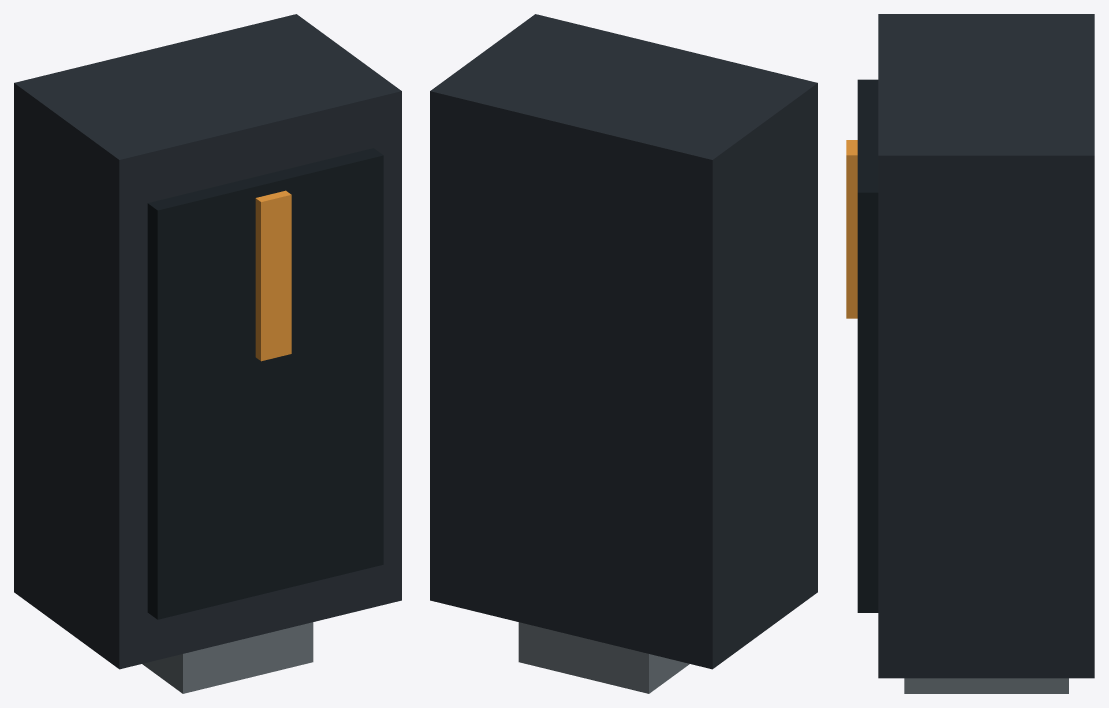
The model's file is standard_battery_pack.glb.
3 views of the same model, side by side, from view 1: azimuth 30°, elevation 25°; view 2: azimuth 150°, elevation 25°; view 3: azimuth 270°, elevation 25° (orthographic). The views are drawn at different scales.
Parts seen in each view (by area): view 1: Cartridge, CartridgeFace, LockTab, CapacityStripe; view 2: Cartridge, LockTab; view 3: Cartridge, CartridgeFace, LockTab, CapacityStripe.
Part boxes in pixels (x1,y1,x2,y2): Cartridge: [14, 14, 401, 669]; CartridgeFace: [147, 148, 383, 619]; LockTab: [142, 622, 313, 693]; CapacityStripe: [255, 190, 291, 361]; Cartridge: [430, 14, 817, 669]; LockTab: [518, 622, 689, 693]; Cartridge: [878, 14, 1094, 678]; CartridgeFace: [857, 79, 878, 612]; LockTab: [904, 678, 1068, 693]; CapacityStripe: [846, 140, 857, 318].
Bounding box in the file's own units: 0.65 × 1.24 × 0.4825.
